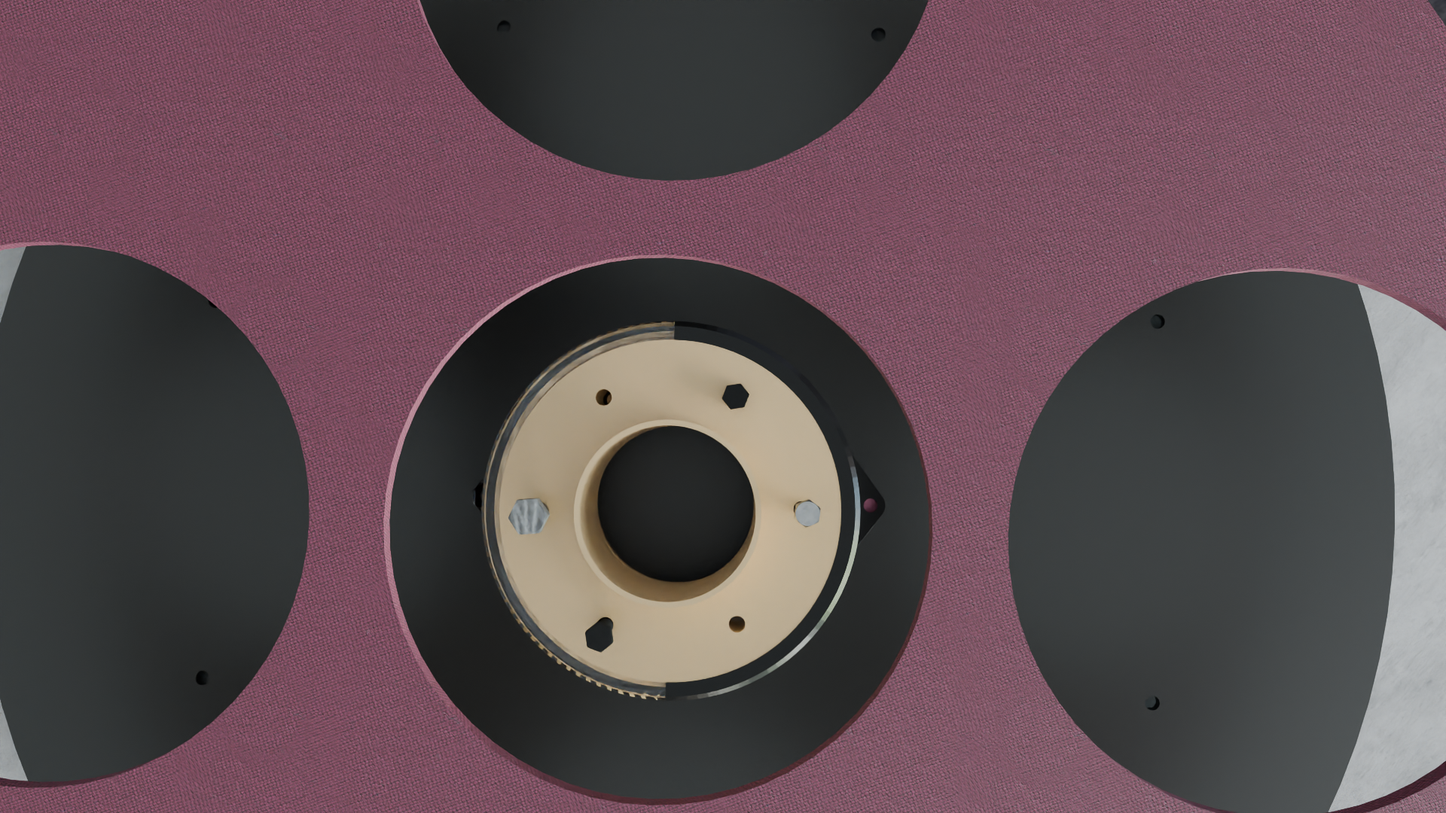bolt: (508, 499, 548, 534), (585, 623, 612, 653), (721, 383, 749, 410), (795, 499, 821, 528)
